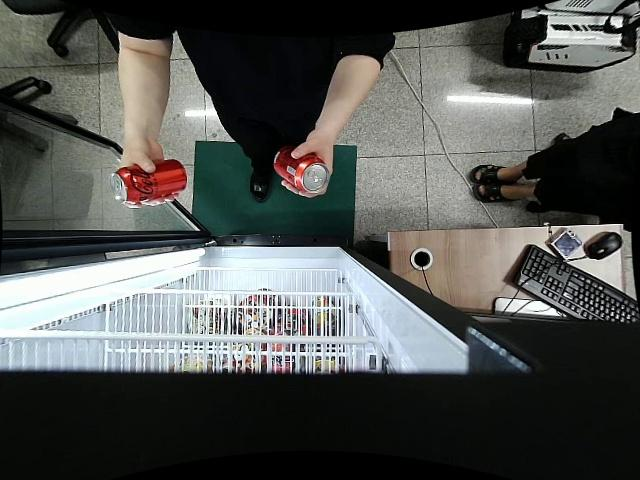00_hand: (119, 144, 181, 210), (281, 133, 335, 199)
11_cocaColaZero: (109, 159, 187, 204), (272, 146, 330, 194)
